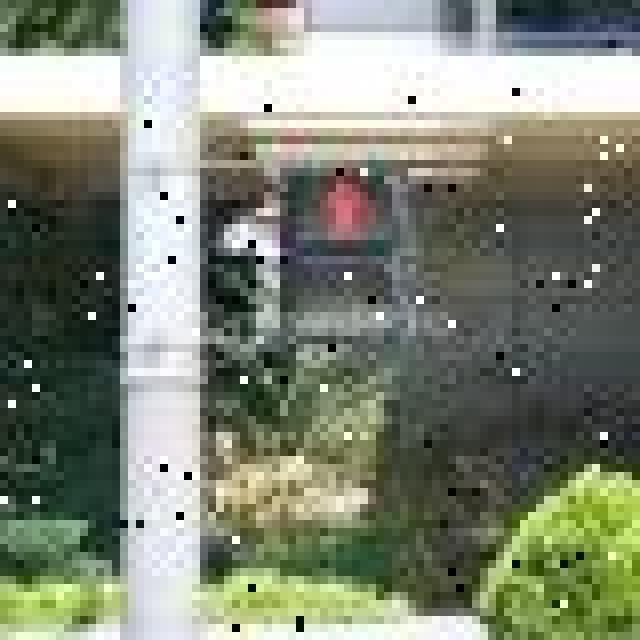redlight: (274, 154, 403, 350)
